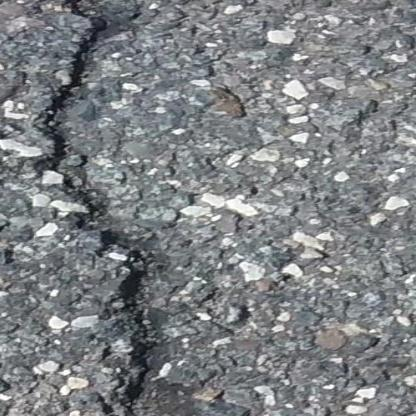Cracks: (32, 0, 227, 416)
